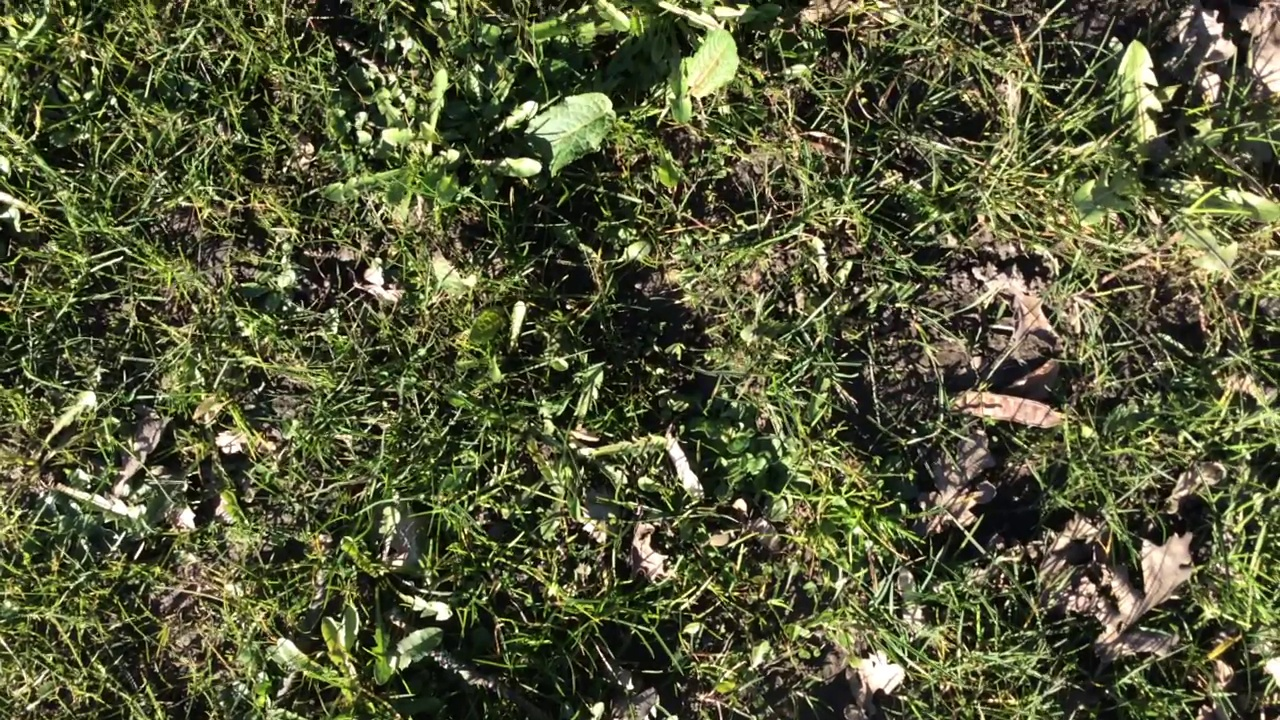rumex: (506, 91, 616, 179), (663, 27, 739, 106)
